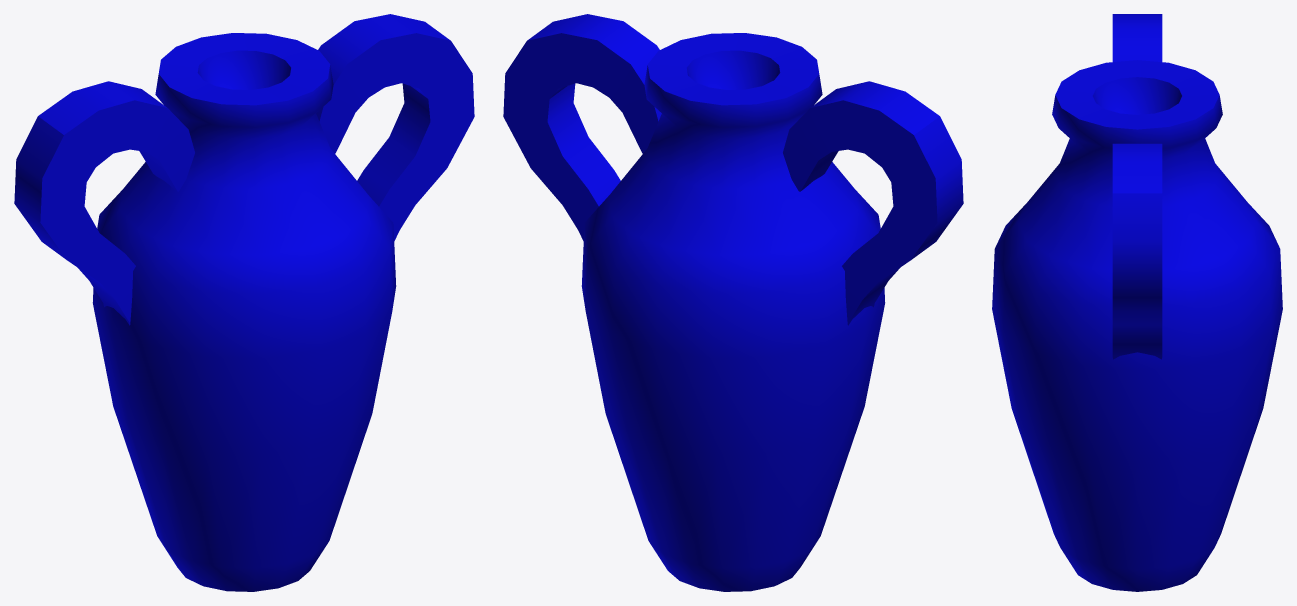
The model's file is SM_Jar_03.fbx.
The picture shows the model from 3 angles, left to right: view 1: azimuth 30°, elevation 25°; view 2: azimuth 150°, elevation 25°; view 3: azimuth 270°, elevation 25°; orthographic projection. The views are drawn at different scales.
Parts seen in each view (by area): view 1: Jar_03; view 2: Jar_03; view 3: Jar_03.
Boxes of the visible parts, x1=… form: Jar_03: x1=14, y1=14, x2=474, y2=591; Jar_03: x1=503, y1=14, x2=963, y2=591; Jar_03: x1=992, y1=14, x2=1282, y2=591.
Bounding box in the file's own units: 77.94 × 86.26 × 47.58.
